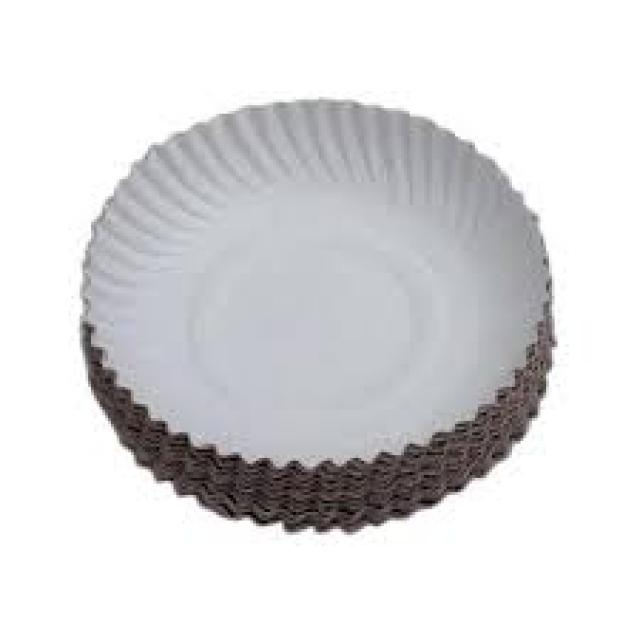PaperCardboard: (80, 96, 550, 529)
